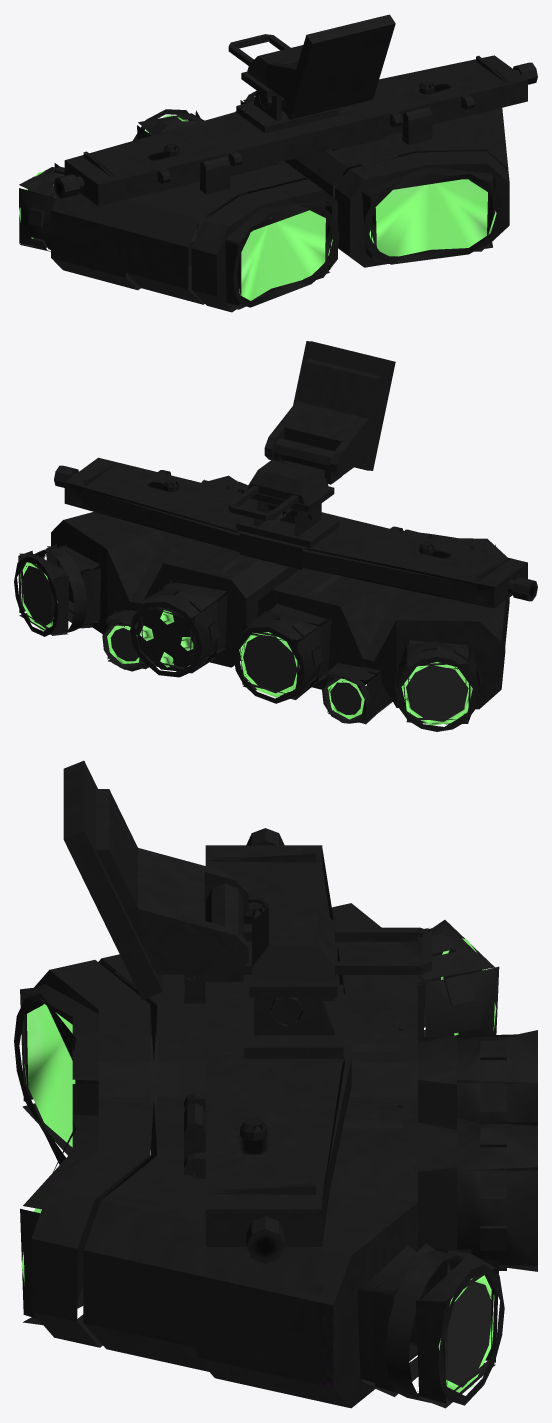
File: hat_night_owl.glb
The picture shows the model from 3 angles, top to bottom: view 1: azimuth 30°, elevation 25°; view 2: azimuth 150°, elevation 25°; view 3: azimuth 270°, elevation 25°; orthographic projection. The views are drawn at different scales.
Visible parts, largest first — view 1: Cube_Material_0; view 2: Cube_Material_0; view 3: Cube_Material_0.
Part boxes in pixels (<box>): Cube_Material_0: <box>19,14,537,312</box>; Cube_Material_0: <box>14,341,537,731</box>; Cube_Material_0: <box>14,760,537,1408</box>.
Bounding box in the file's own units: 1.28 × 0.6859 × 0.7089.
Materials: 1 (1 with a texture image).
